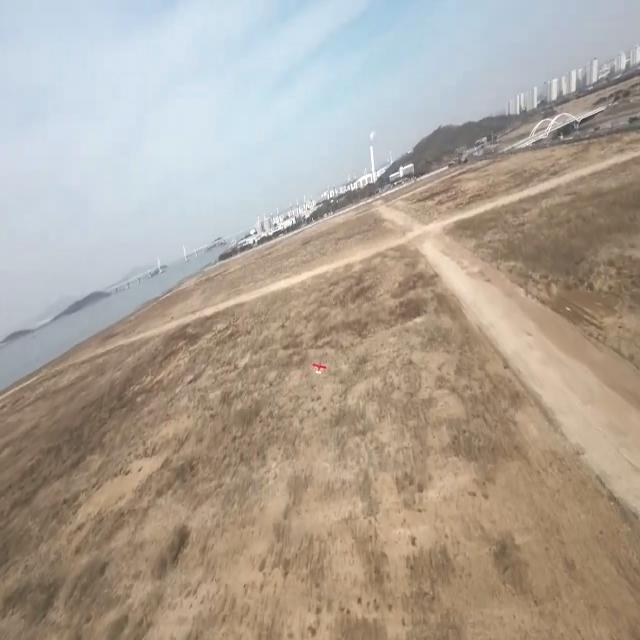iha: (307, 358, 333, 381)
